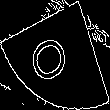O_E: (30, 25, 80, 85)
